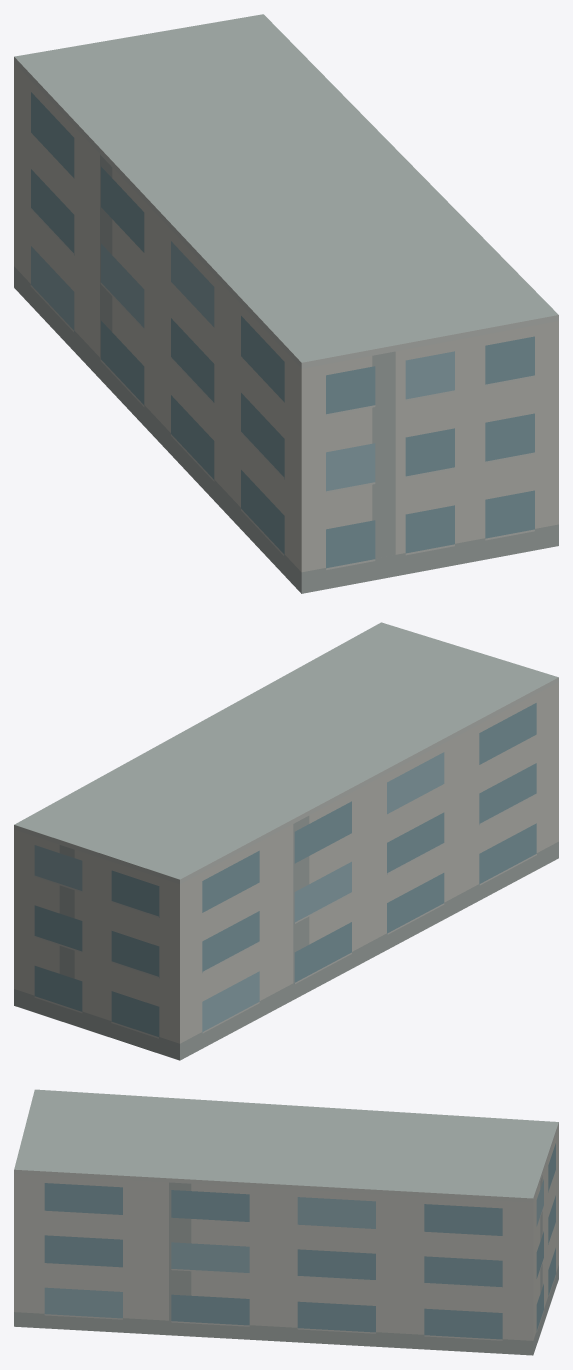
File: survey-upis-32663983.glb
3 renders of one model, top to bottom at view 1: azimuth 30°, elevation 25°; view 2: azimuth 150°, elevation 25°; view 3: azimuth 270°, elevation 25°, orthographic. The views are drawn at different scales.
Parts seen in each view (by area): view 1: survey-upis-32663983.tmp; view 2: survey-upis-32663983.tmp; view 3: survey-upis-32663983.tmp.
Part boxes in pixels (x1,y1,x2,y2): survey-upis-32663983.tmp: (14,14,558,593); survey-upis-32663983.tmp: (14,622,558,1060); survey-upis-32663983.tmp: (14,1089,558,1355).
Size of the model in its own units: 13.64 by 9.15 by 28.79.
